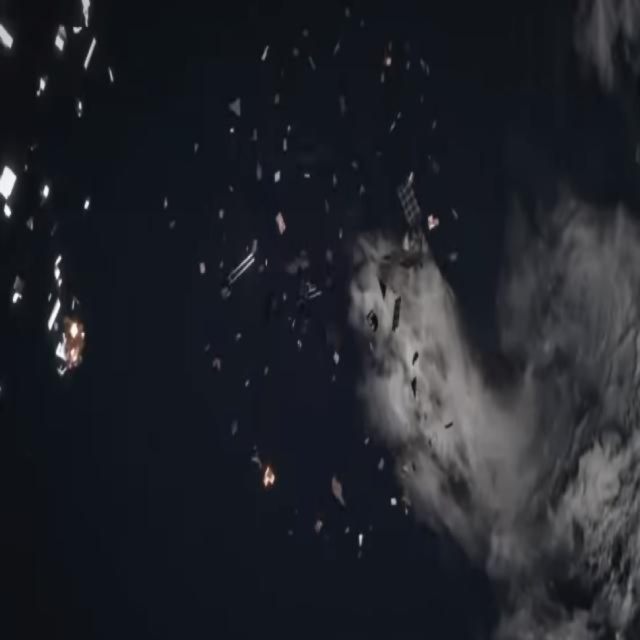large_debris: (184, 525, 196, 640)
